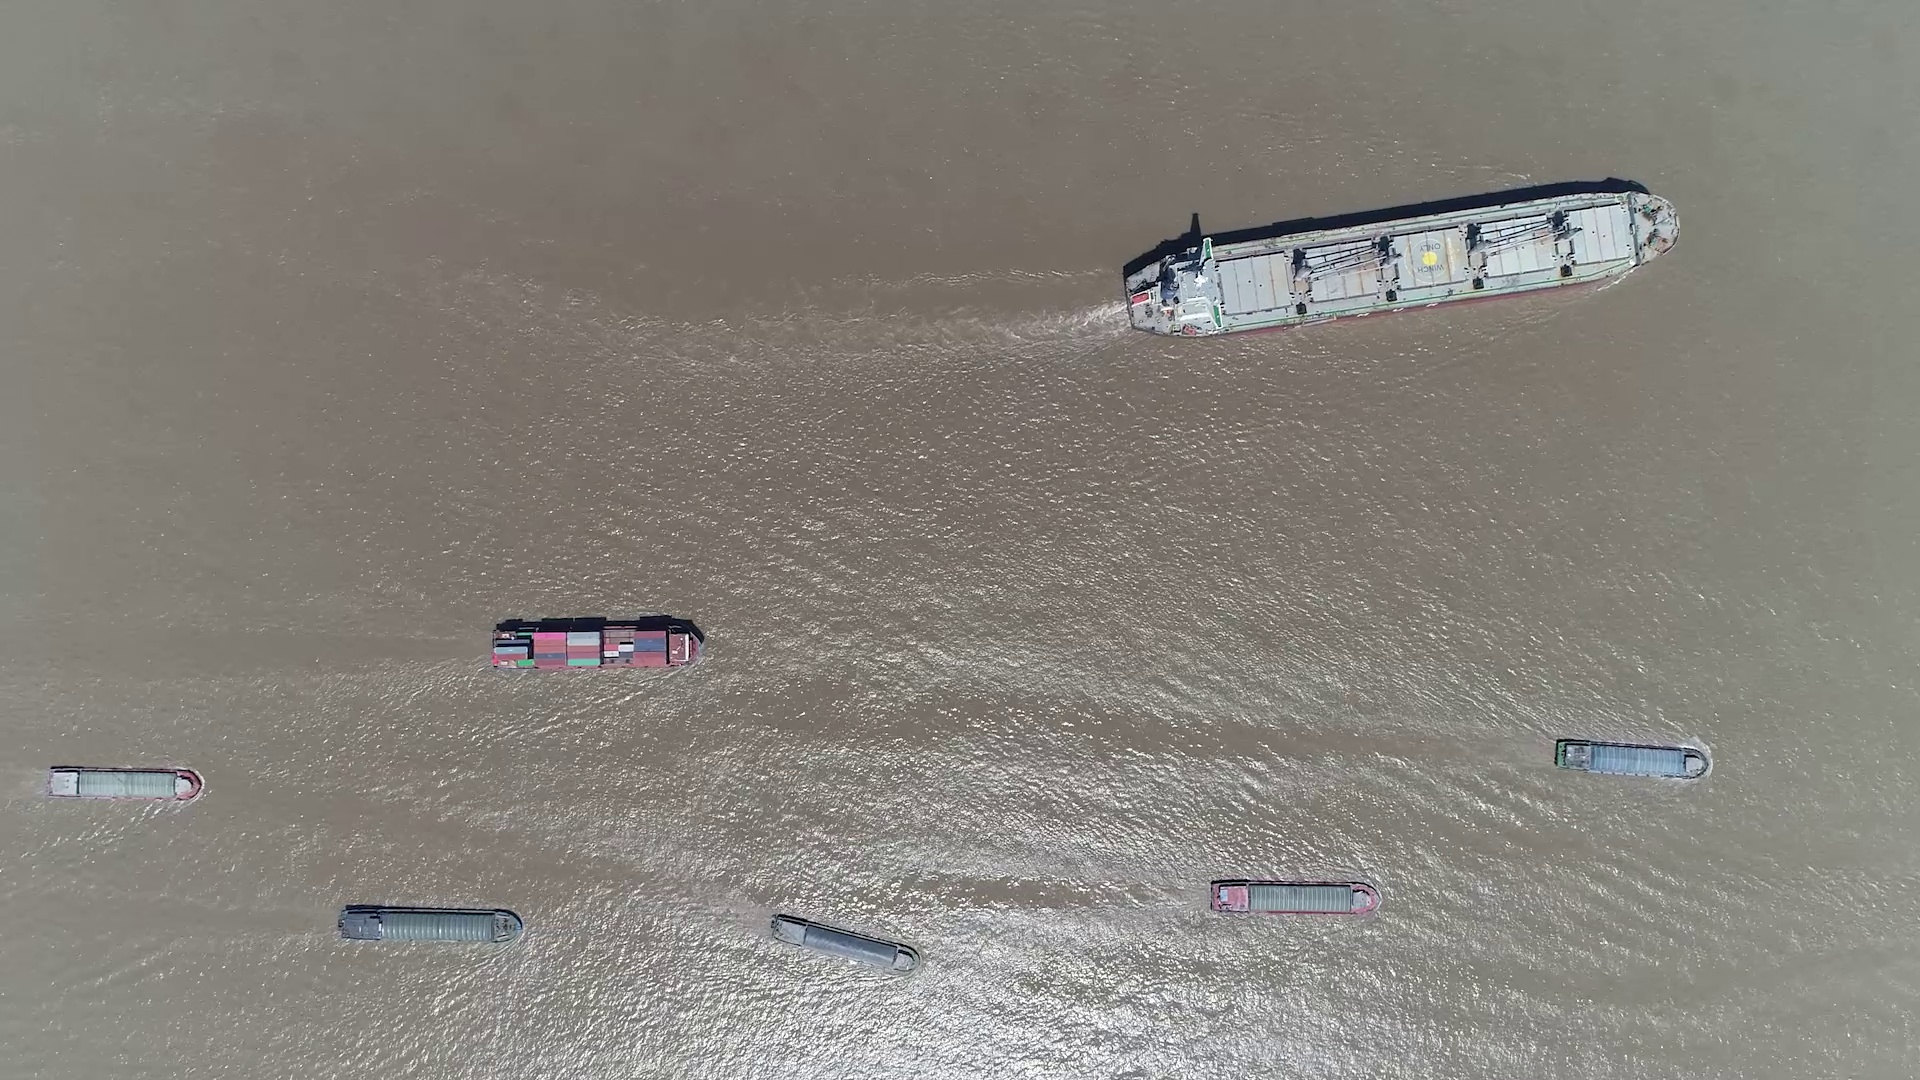ship: (1121, 189, 1673, 336), (489, 621, 703, 670), (769, 913, 918, 971), (338, 905, 522, 944), (1553, 738, 1708, 781), (1211, 880, 1381, 916), (46, 766, 199, 800)
